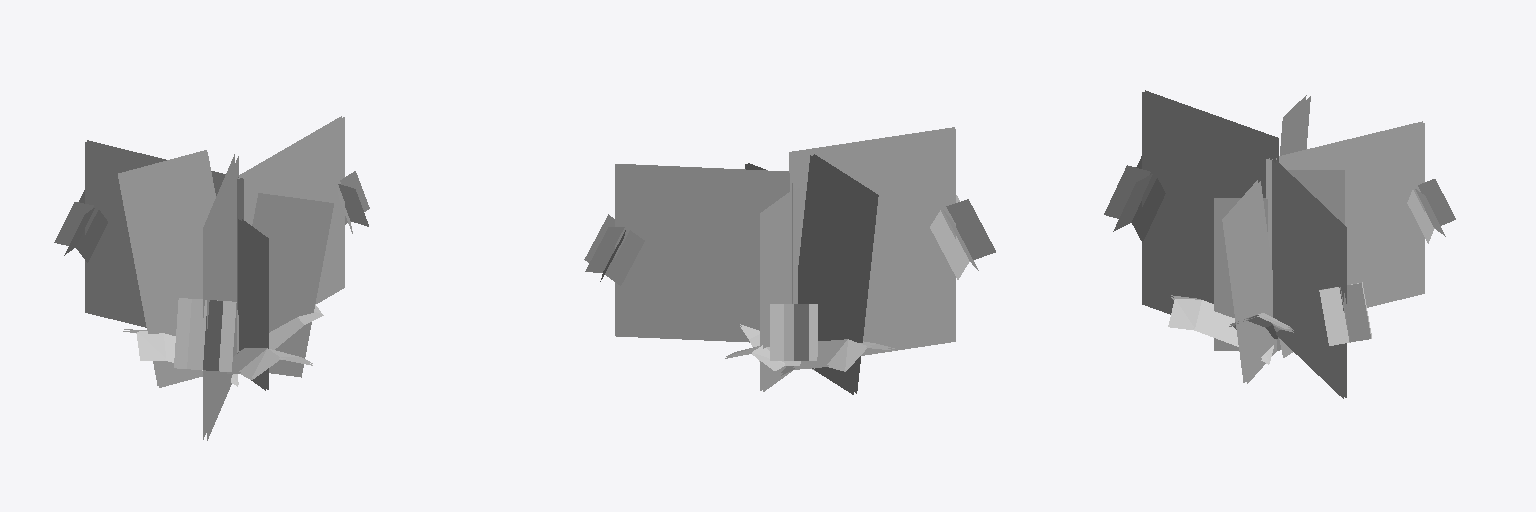
File: flower1.obj
The picture shows the model from 3 angles: view 1: azimuth 30°, elevation 25°; view 2: azimuth 150°, elevation 25°; view 3: azimuth 270°, elevation 25°; orthographic projection.
Parts seen in each view (by area): view 1: flower1.001_Plane.006; view 2: flower1.001_Plane.006; view 3: flower1.001_Plane.006.
Boxes of the visible parts, x1=… form: flower1.001_Plane.006: x1=54, y1=116, x2=369, y2=440; flower1.001_Plane.006: x1=584, y1=127, x2=995, y2=394; flower1.001_Plane.006: x1=1104, y1=90, x2=1455, y2=398.
Size of the model in its own units: 3.49 by 2.58 by 3.58.